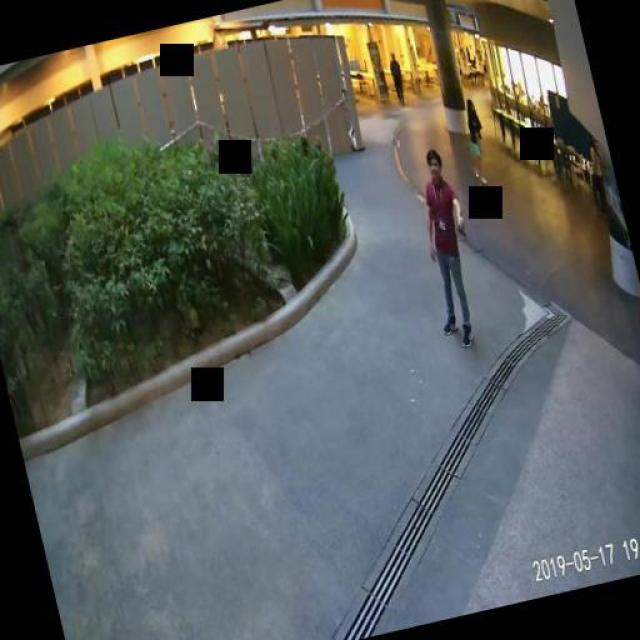gun: (455, 216, 467, 238)
